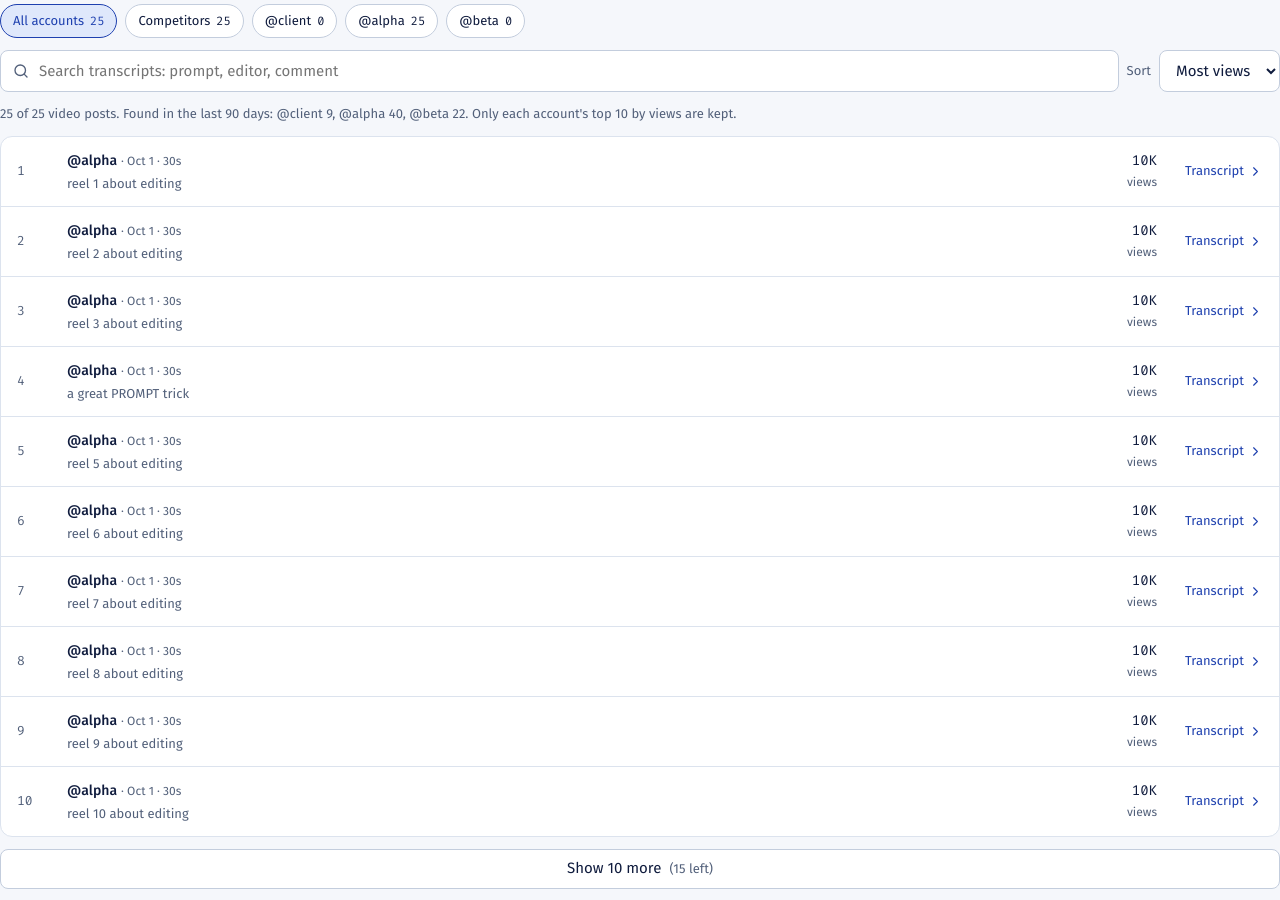
Test: PostsTab › opens a post and moves Next within the filtered list
Click the button with aria-label "Open transcript: @alpha, 10K views, Oct 1". click: x=99, y=160
box: [1, 136, 1279, 206]
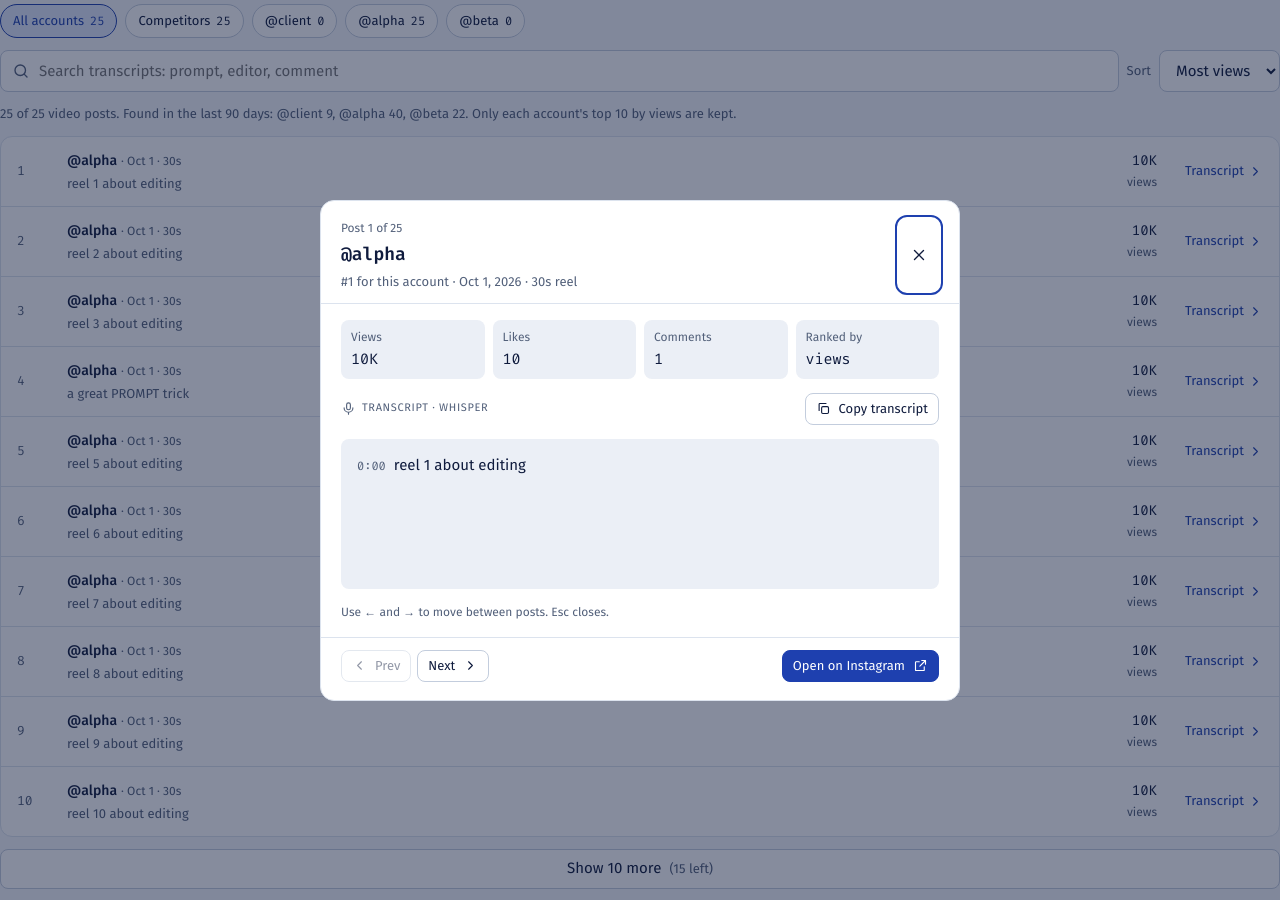
Expected: the text "Post 1 of 25" is shown, [341, 218, 402, 236]
Click the button with aria-label "Next post". click: x=453, y=666
box: [417, 650, 489, 682]
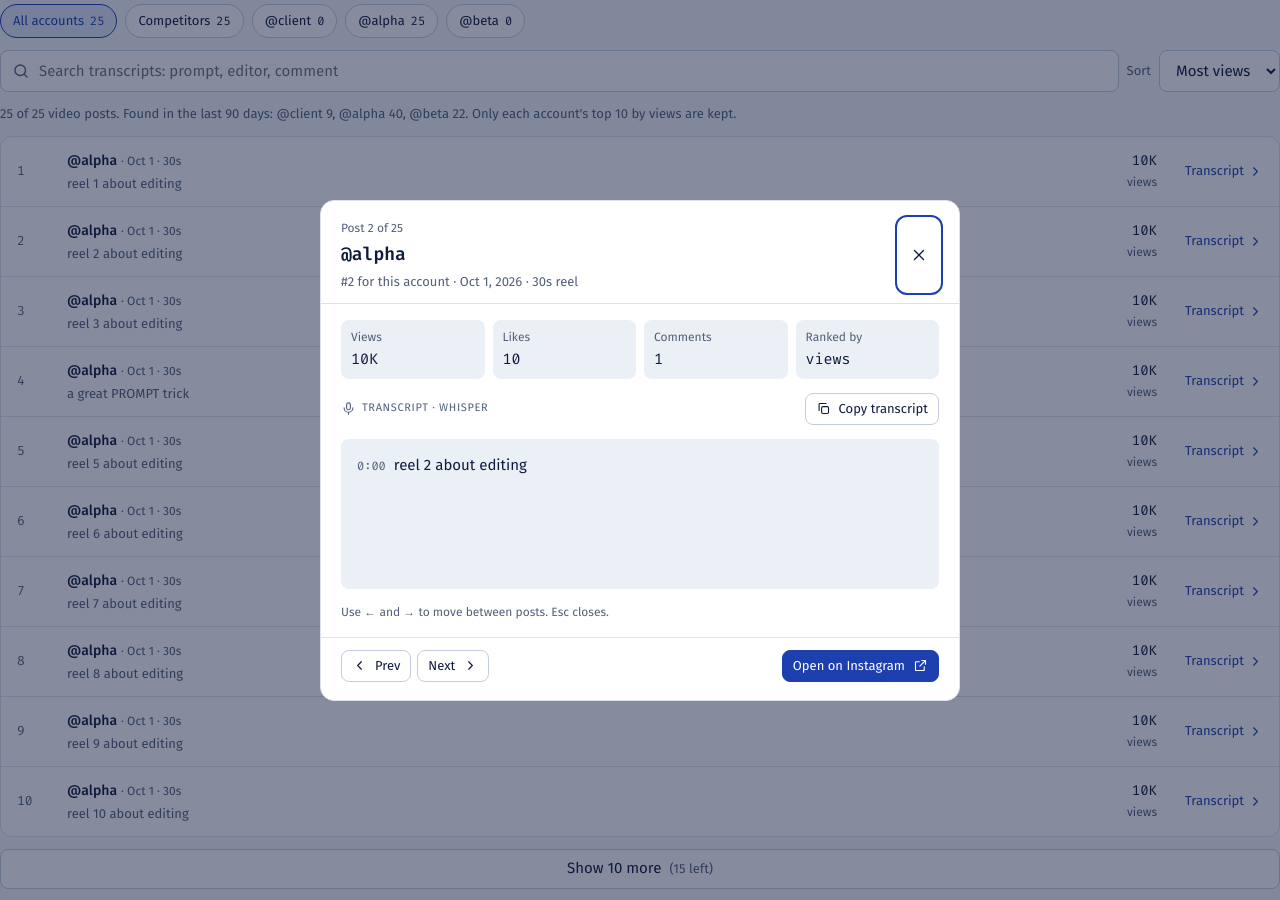
Expected: the text "Post 2 of 25" is shown, [341, 218, 403, 236]
